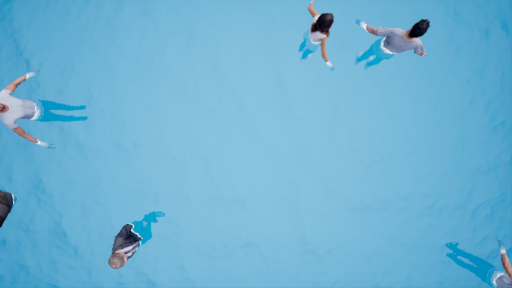person: (1, 73, 91, 148), (354, 17, 431, 77), (105, 213, 178, 270), (295, 3, 344, 79)
